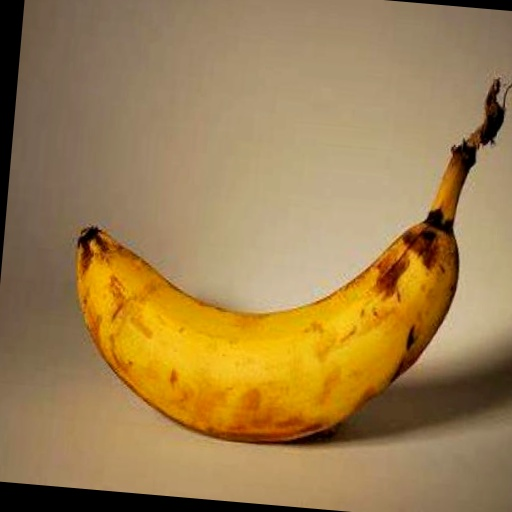fruit: (77, 80, 503, 441)
